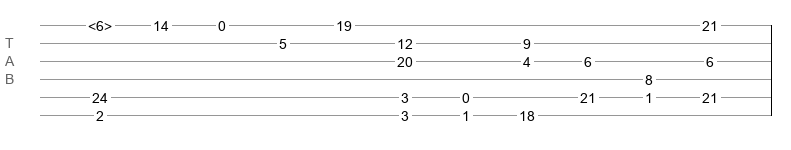0: (218, 18, 226, 28), (462, 90, 470, 100)
1: (462, 108, 470, 118), (645, 90, 653, 100)
12: (397, 36, 413, 46)
14: (153, 18, 169, 28)
18: (519, 108, 535, 118)
19: (336, 18, 352, 28)
2: (96, 108, 104, 118)
20: (397, 54, 413, 64)
21: (580, 90, 596, 100), (702, 18, 718, 28), (702, 90, 718, 100)
24: (92, 90, 108, 100)
3: (401, 108, 409, 118), (401, 90, 409, 100)
4: (523, 54, 531, 64)
5: (279, 36, 287, 46)
6: (584, 54, 592, 64), (706, 54, 714, 64)
8: (645, 72, 653, 82)
9: (523, 36, 531, 46)
harmonic: (88, 18, 112, 28)
